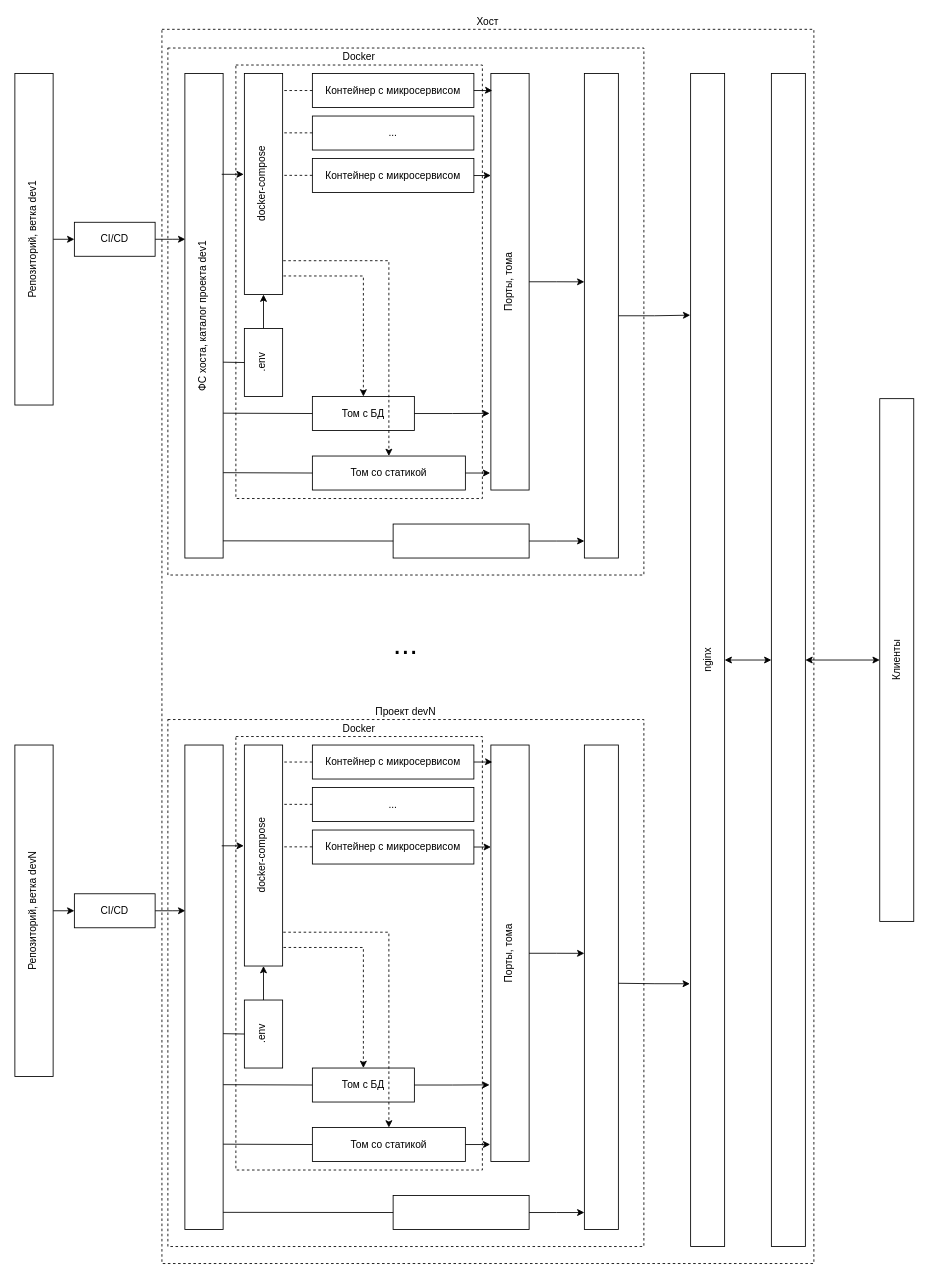
Image size: 929x1285. Some labels were removed from this diagram. The box of each missing label's shape, as (x1, y1, x2, y2) in pixels:
Настройки виртуального хоста для dev1: (584, 73, 618, 558)
Настройки виртуального хоста для devN: (584, 744, 618, 1230)
Проект dev1: (167, 47, 644, 575)
Сертификат dev1: (392, 523, 529, 558)
Сертификат devN: (392, 1195, 529, 1230)
Фаервол: (771, 73, 805, 1247)
ФС хоста, каталог проекта devN: (184, 744, 223, 1230)
